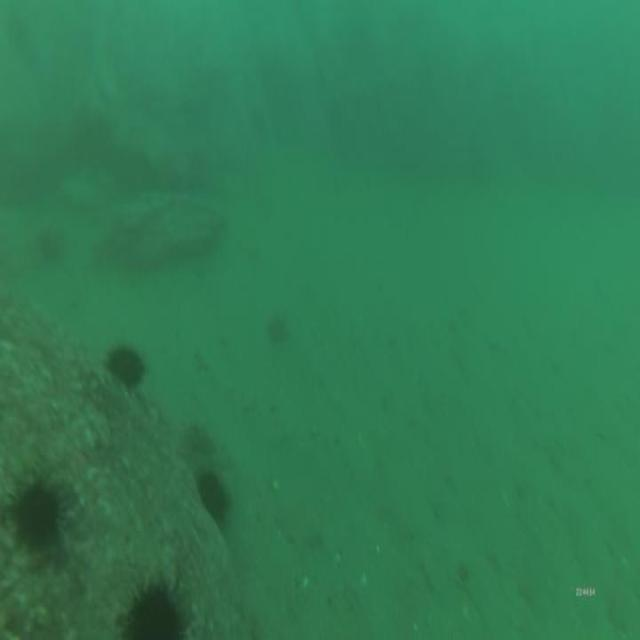echinus: (7, 471, 63, 562), (120, 572, 192, 640), (104, 337, 147, 398), (193, 462, 230, 526)
